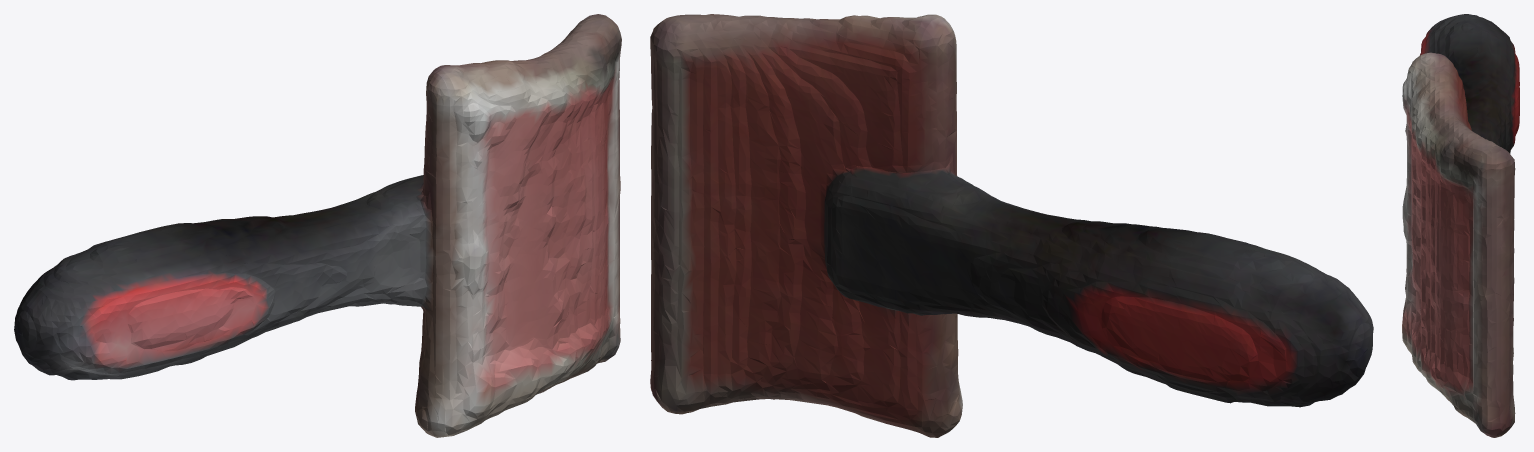
The model's file is pet_brush_1.glb.
The picture shows the model from 3 angles, left to right: view 1: azimuth 30°, elevation 25°; view 2: azimuth 150°, elevation 25°; view 3: azimuth 270°, elevation 25°; orthographic projection. The views are drawn at different scales.
Parts seen in each view (by area): view 1: geometry_0; view 2: geometry_0; view 3: geometry_0.
Boxes of the visible parts, x1,y1,x2,y2 form: geometry_0: (14, 14, 621, 437); geometry_0: (650, 14, 1373, 437); geometry_0: (1402, 14, 1519, 437).
Bounding box in the file's own units: 1 × 0.5672 × 0.1991.
